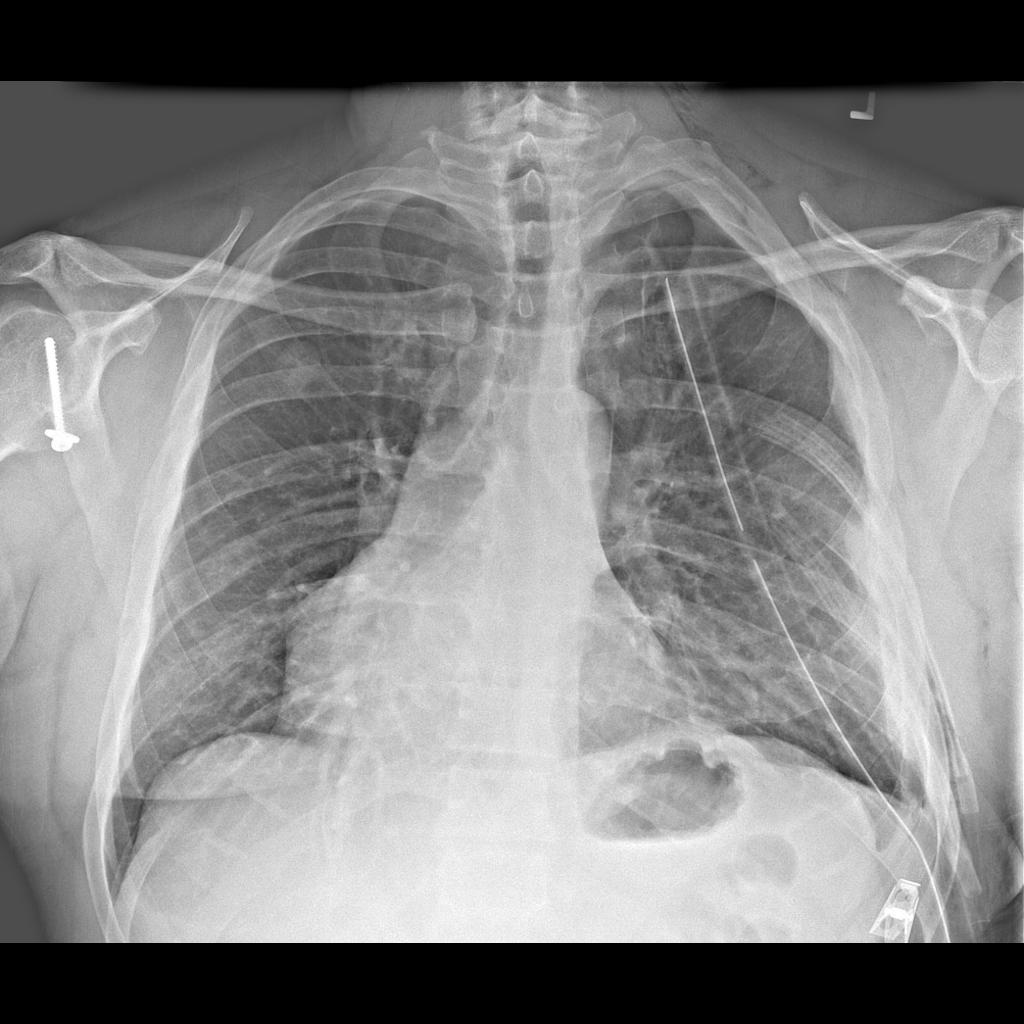Nodule: (271, 335, 325, 411)
